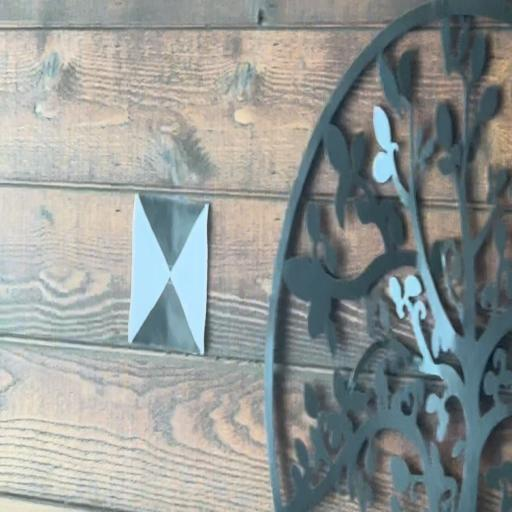target: (127, 194, 208, 354)
